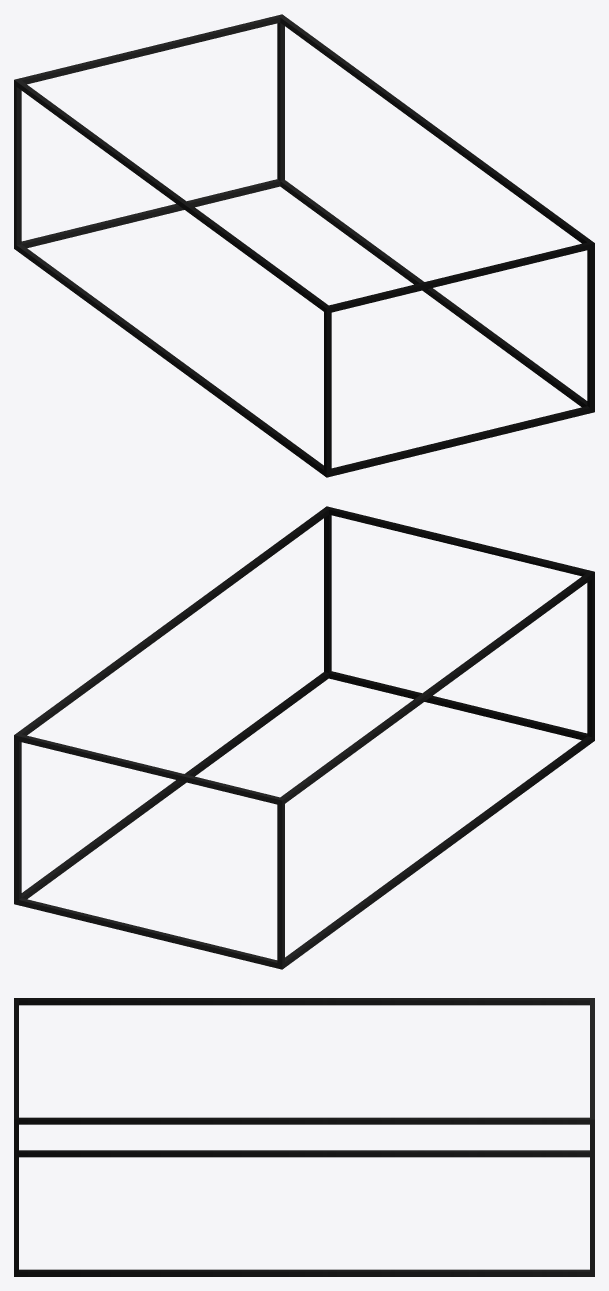
File: soporteMesa.fbx
3 renders of one model, top to bottom at view 1: azimuth 30°, elevation 25°; view 2: azimuth 150°, elevation 25°; view 3: azimuth 270°, elevation 25°, orthographic. The views are drawn at different scales.
Parts seen in each view (by area): view 1: polySurface43; view 2: polySurface43; view 3: polySurface43.
Boxes of the visible parts, x1,y1,x2,y2 form: polySurface43: (14, 14, 594, 477); polySurface43: (14, 506, 594, 969); polySurface43: (14, 998, 594, 1276).
Size of the model in its own units: 1.35 by 0.814 by 2.73.
Materials: 1 (1 with a texture image).
